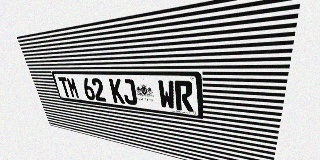2: (91, 78, 106, 102)
6: (81, 78, 96, 100)
J: (121, 79, 138, 105)
K: (109, 78, 125, 104)
M: (66, 77, 80, 99)
R: (174, 80, 193, 112)
T: (58, 77, 72, 98)
W: (157, 80, 176, 110)
